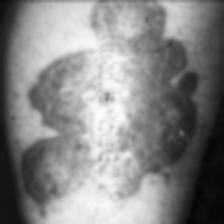Unclassified: (14, 139, 88, 192), (103, 0, 163, 41)
